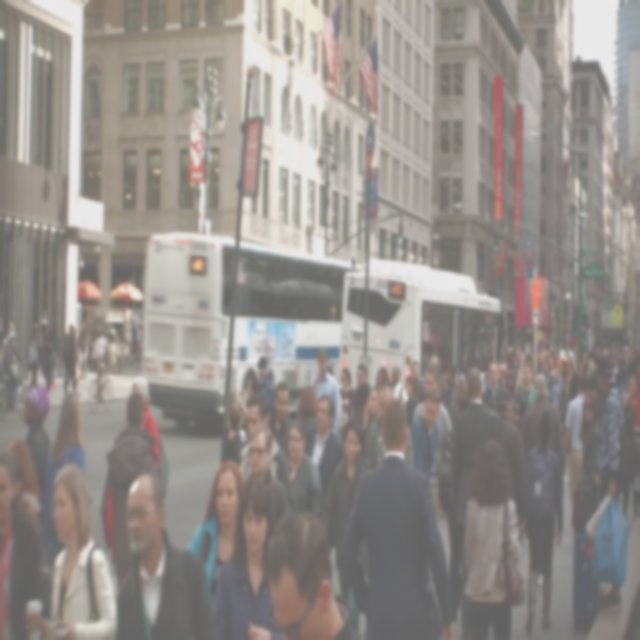pessoa: (342, 396, 456, 639), (21, 457, 121, 639), (114, 468, 214, 639), (205, 469, 301, 639), (450, 364, 503, 639), (461, 434, 524, 638), (516, 401, 568, 639), (99, 390, 159, 586), (184, 458, 248, 622), (327, 413, 372, 615), (0, 449, 47, 639), (593, 351, 635, 506), (412, 361, 452, 519), (234, 389, 290, 491), (243, 418, 291, 526), (274, 418, 324, 520), (303, 393, 345, 511), (522, 371, 568, 478), (493, 385, 526, 532), (362, 378, 414, 471), (562, 369, 592, 511), (6, 437, 44, 536), (22, 384, 52, 506), (49, 388, 88, 480), (541, 410, 565, 548), (620, 372, 640, 524), (130, 374, 160, 472), (576, 386, 604, 491), (312, 345, 342, 435), (1, 326, 26, 411), (294, 382, 321, 460), (270, 380, 296, 458), (1, 322, 22, 414), (89, 324, 112, 406), (546, 360, 568, 438), (61, 322, 82, 402), (512, 360, 537, 427), (220, 401, 243, 468), (360, 387, 380, 457), (481, 358, 505, 409), (351, 362, 372, 418), (256, 355, 276, 413), (26, 326, 43, 390), (598, 341, 638, 368), (403, 372, 422, 428), (46, 314, 60, 389), (76, 316, 92, 380), (40, 333, 56, 395), (65, 324, 80, 388), (564, 349, 580, 404), (338, 366, 354, 418), (442, 360, 458, 412), (501, 337, 532, 363), (504, 360, 520, 410), (390, 364, 408, 408), (353, 382, 372, 422), (536, 338, 549, 394), (242, 370, 261, 402), (454, 376, 470, 412), (544, 354, 556, 402), (586, 349, 598, 392), (128, 317, 138, 368), (134, 318, 143, 366), (550, 341, 566, 368), (576, 347, 587, 377), (374, 366, 390, 386), (497, 362, 509, 386), (92, 318, 103, 342), (410, 359, 420, 382), (458, 392, 469, 408), (0, 319, 5, 342), (428, 354, 437, 366), (138, 310, 144, 324)
